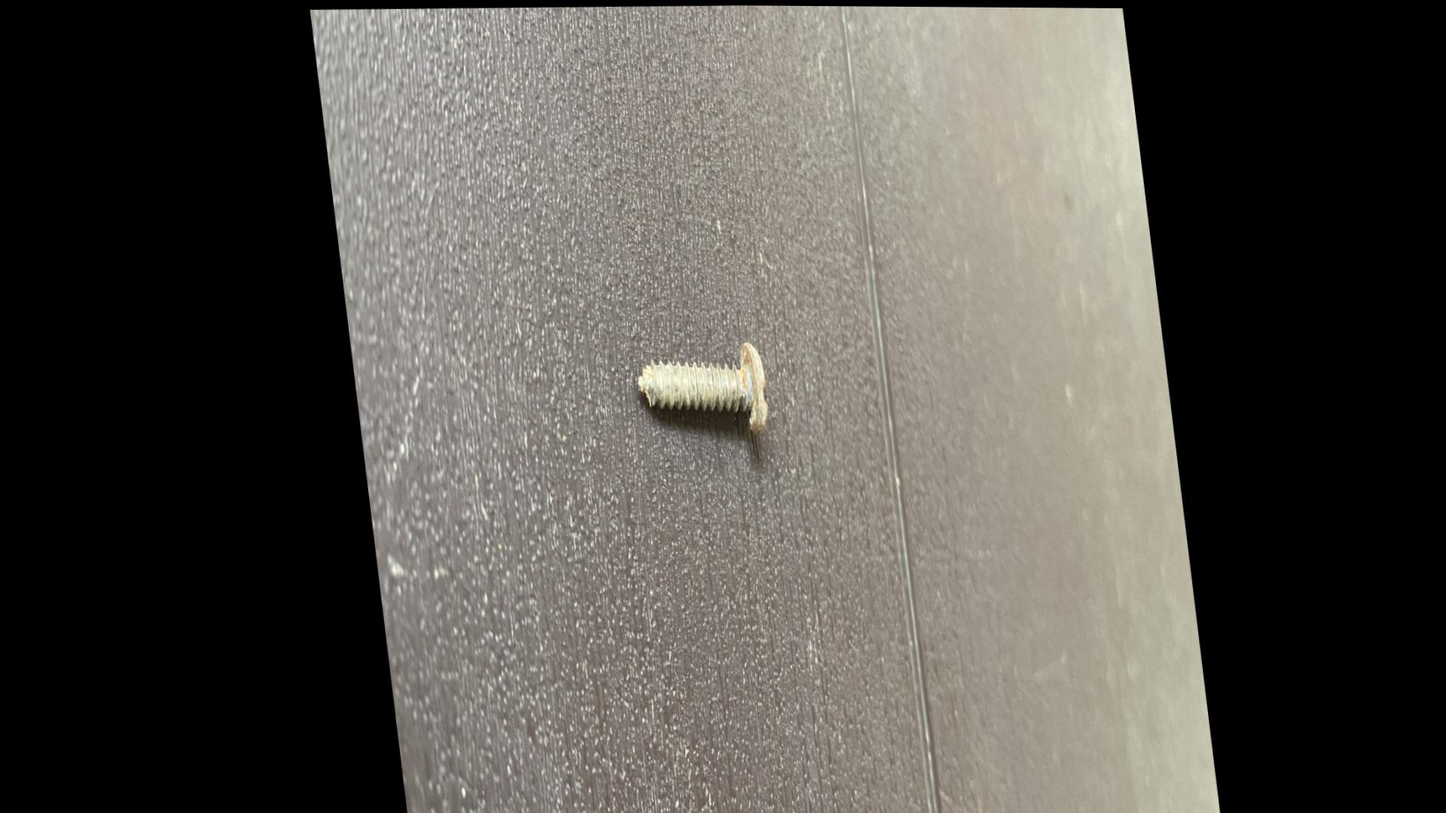screw: (615, 301, 784, 479)
